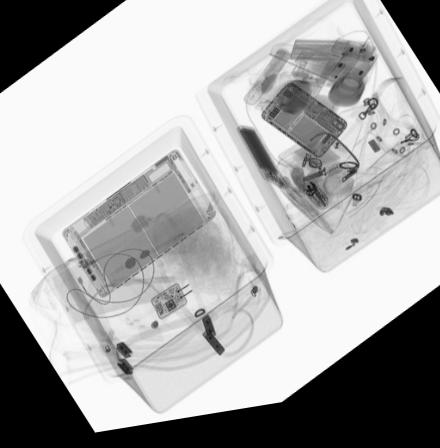Powerbank: (234, 136, 284, 200)
